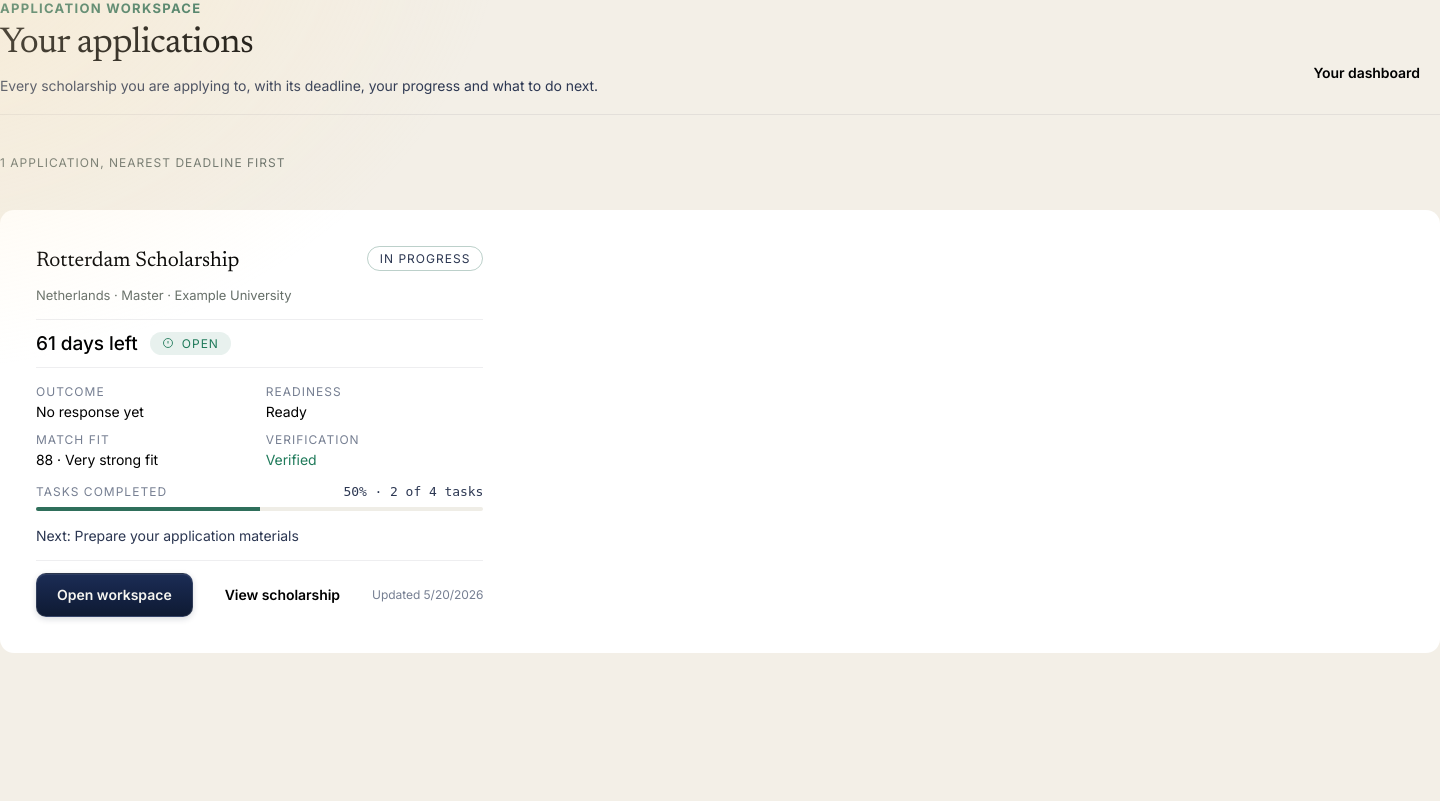
Scenario: ApplicationWorkspace › renders the checklist with real checkboxes and their provenance
The width and height of the screenshot is (1440, 801).
Click the button "Open workspace": {"x": 114, "y": 595} [36, 573, 193, 617]
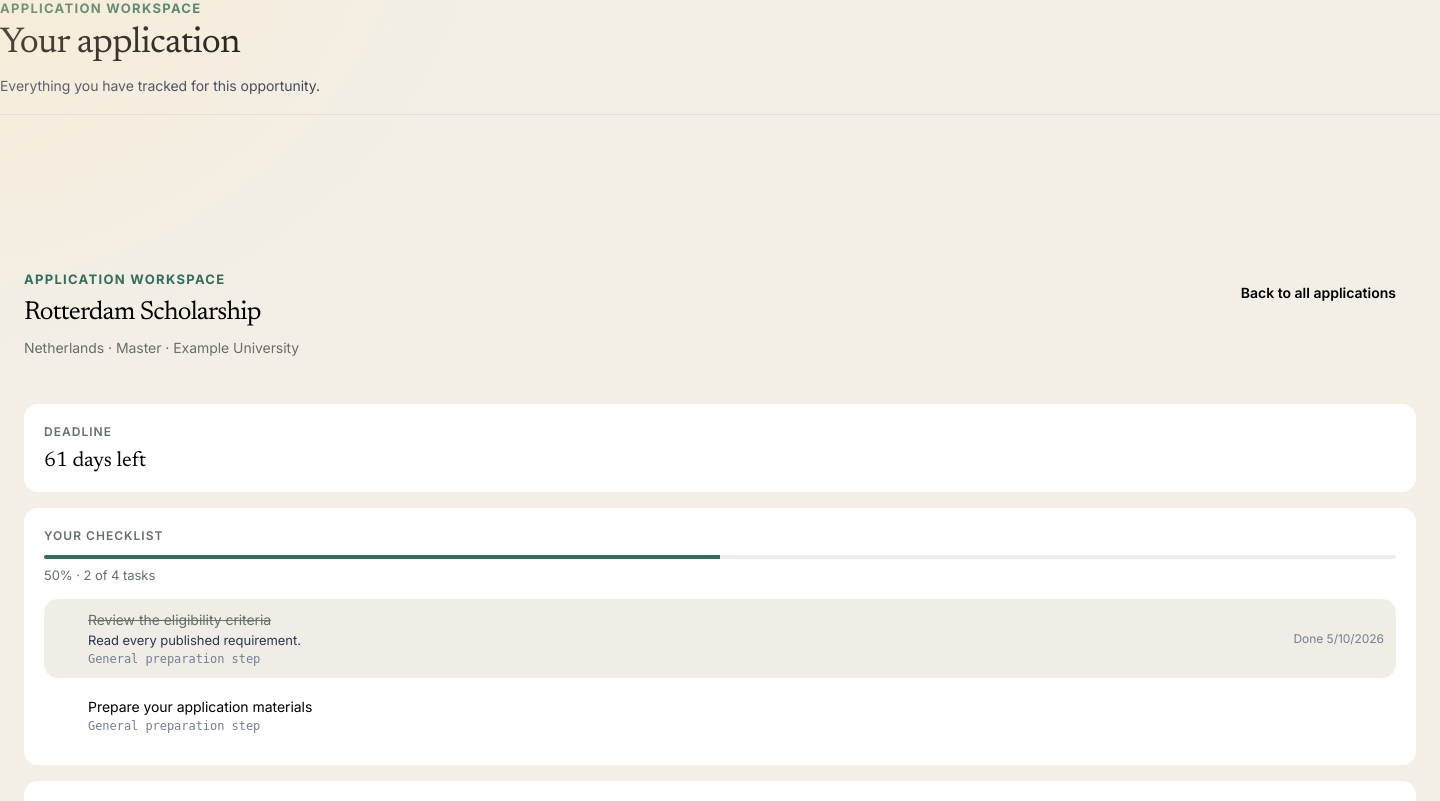
expect the text "General preparation step" is shown 2 times: met, box [88, 652, 260, 666]; [88, 719, 260, 733]
